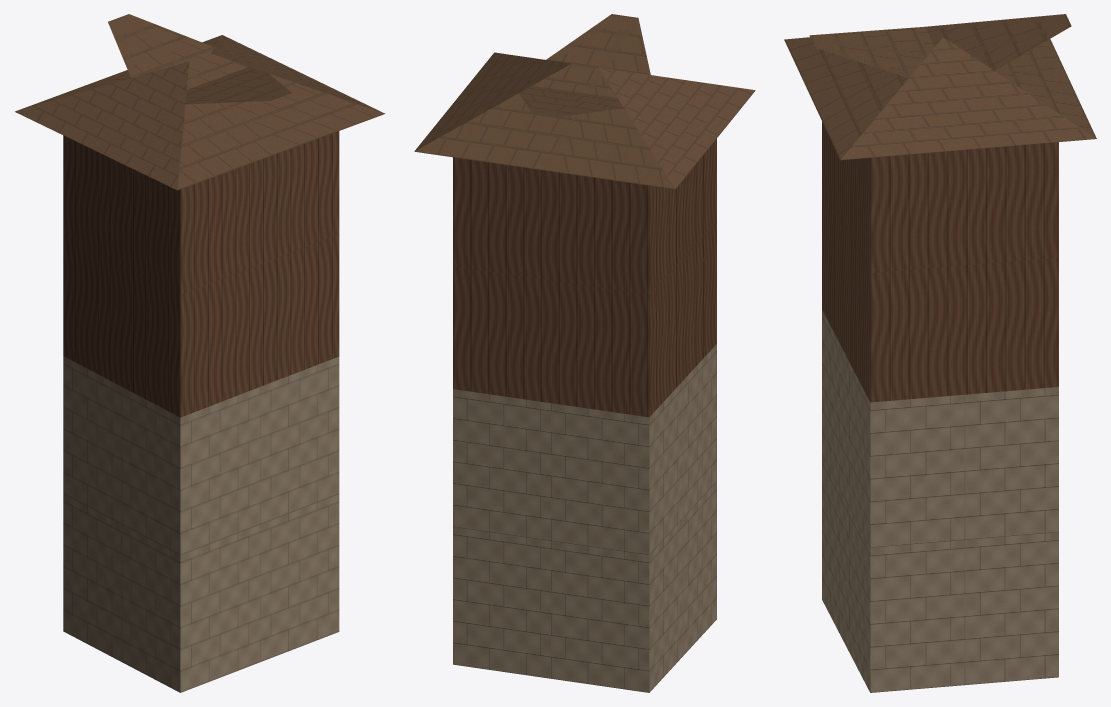
The model's file is bld_c9_41_509.gltf.
3 renders of one model, left to right at view 1: azimuth 30°, elevation 25°; view 2: azimuth 150°, elevation 25°; view 3: azimuth 270°, elevation 25°, orthographic. The views are drawn at different scales.
Visible parts, largest first — view 1: bld_c9_41_509; view 2: bld_c9_41_509; view 3: bld_c9_41_509.
Boxes of the visible parts, left/top/right/bottom form: bld_c9_41_509: left=15, top=14, right=385, bottom=692; bld_c9_41_509: left=414, top=14, right=755, bottom=692; bld_c9_41_509: left=784, top=14, right=1096, bottom=692.
Size of the model in its own units: 5.22 by 10.4 by 4.85.
Materials: 3 (3 with a texture image).
